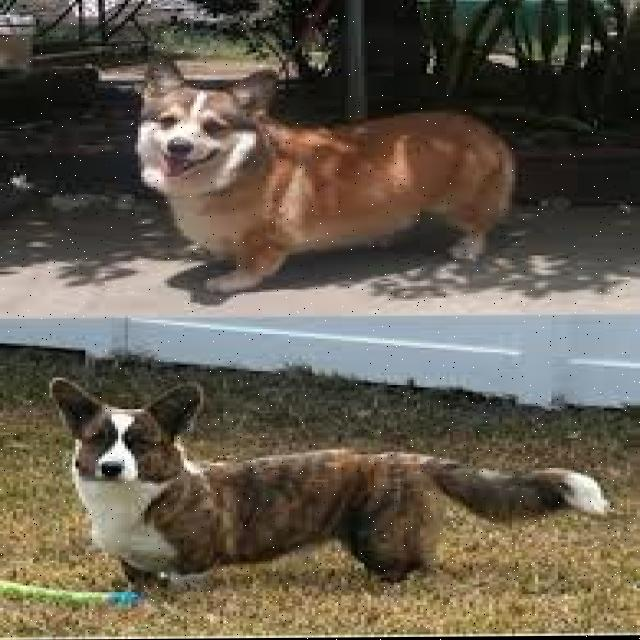CORGI: (54, 347, 614, 609), (110, 23, 532, 316)
